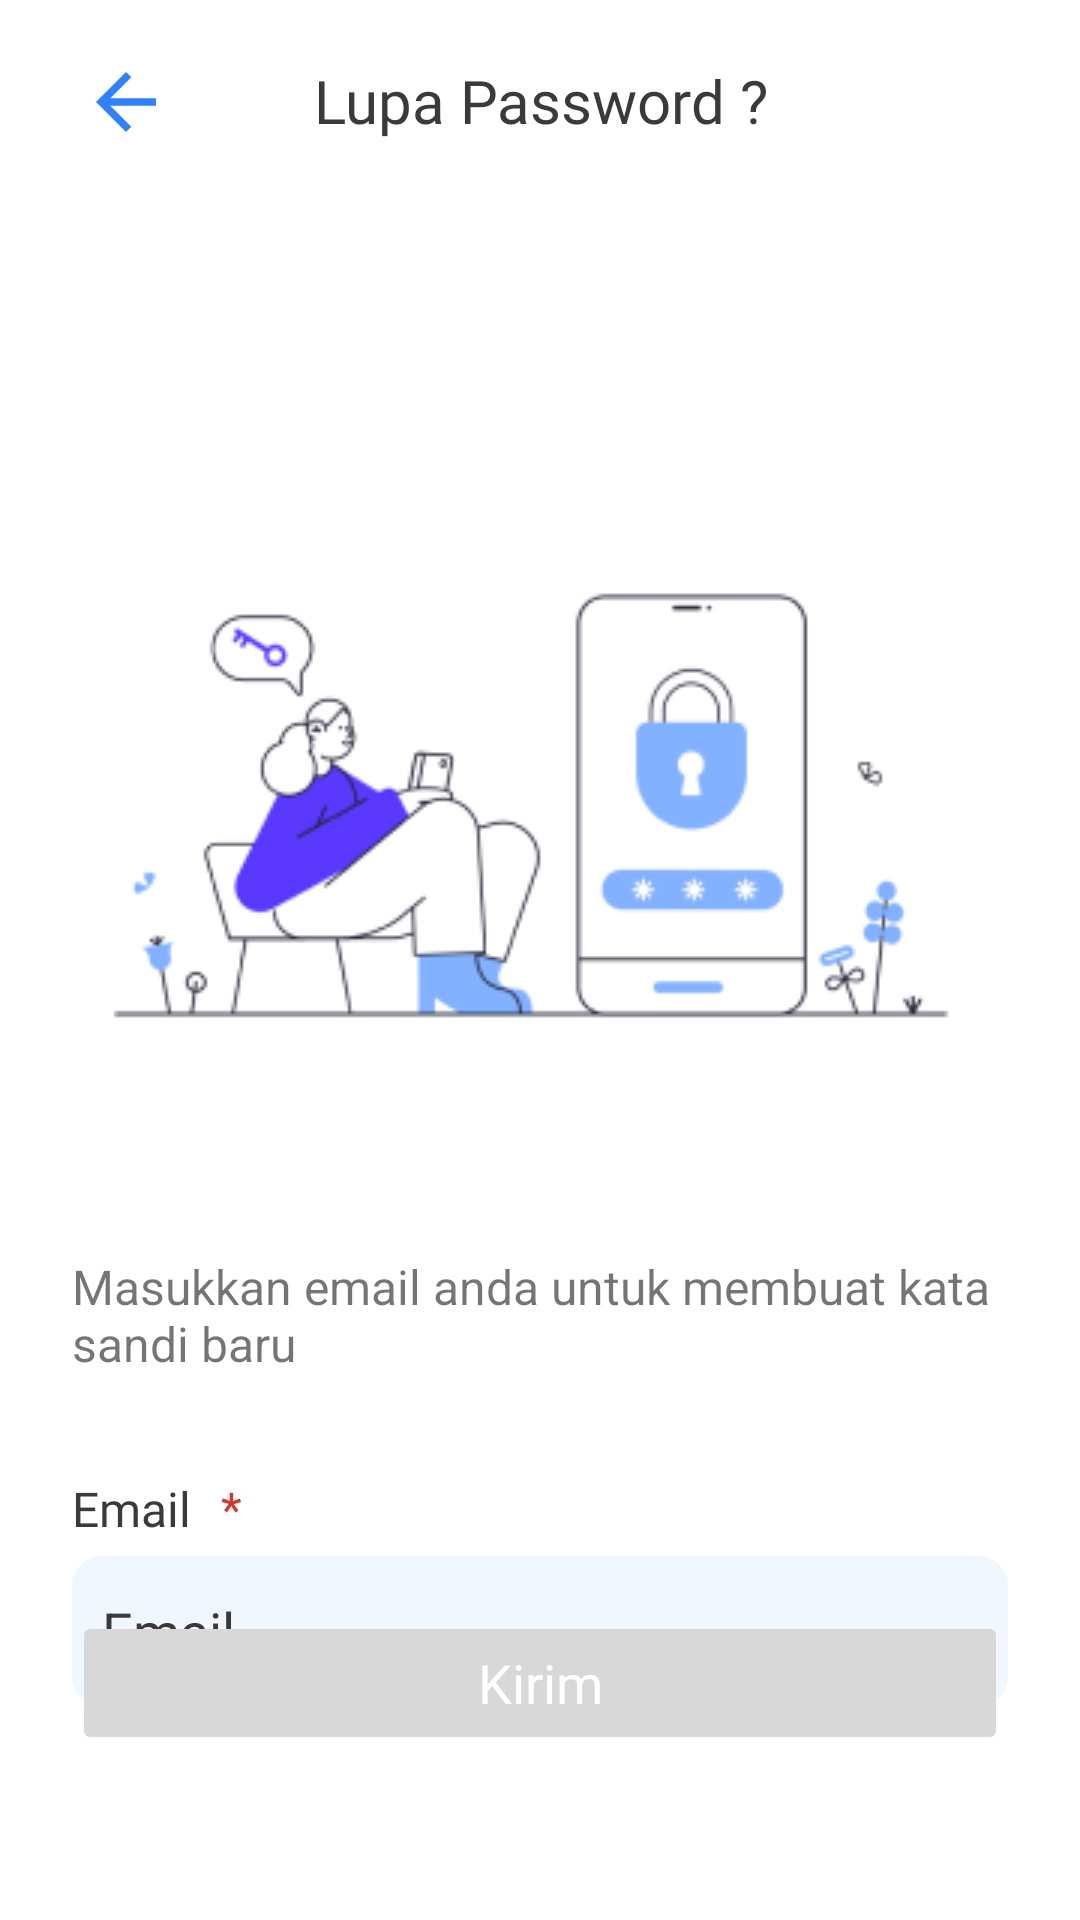

Point at icon controls on the screen. Image size 1080w x 1920h, points as point (x, y).
arrow back: point (126, 102)
